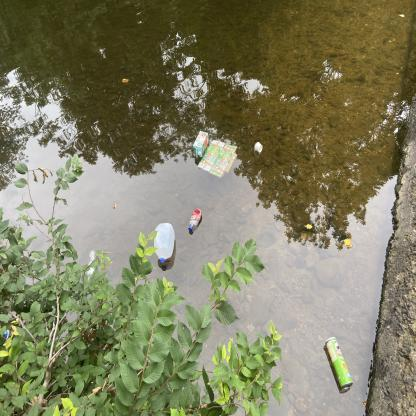trash: (194, 136, 242, 183), (322, 334, 356, 394), (150, 219, 177, 272), (192, 129, 210, 161), (186, 206, 204, 236), (86, 247, 100, 282), (252, 139, 264, 156)
